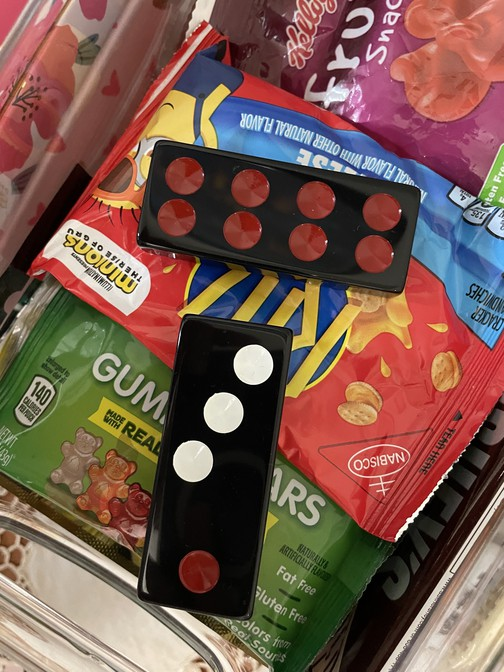goose: (138, 314, 291, 620)
man: (138, 141, 421, 295)
